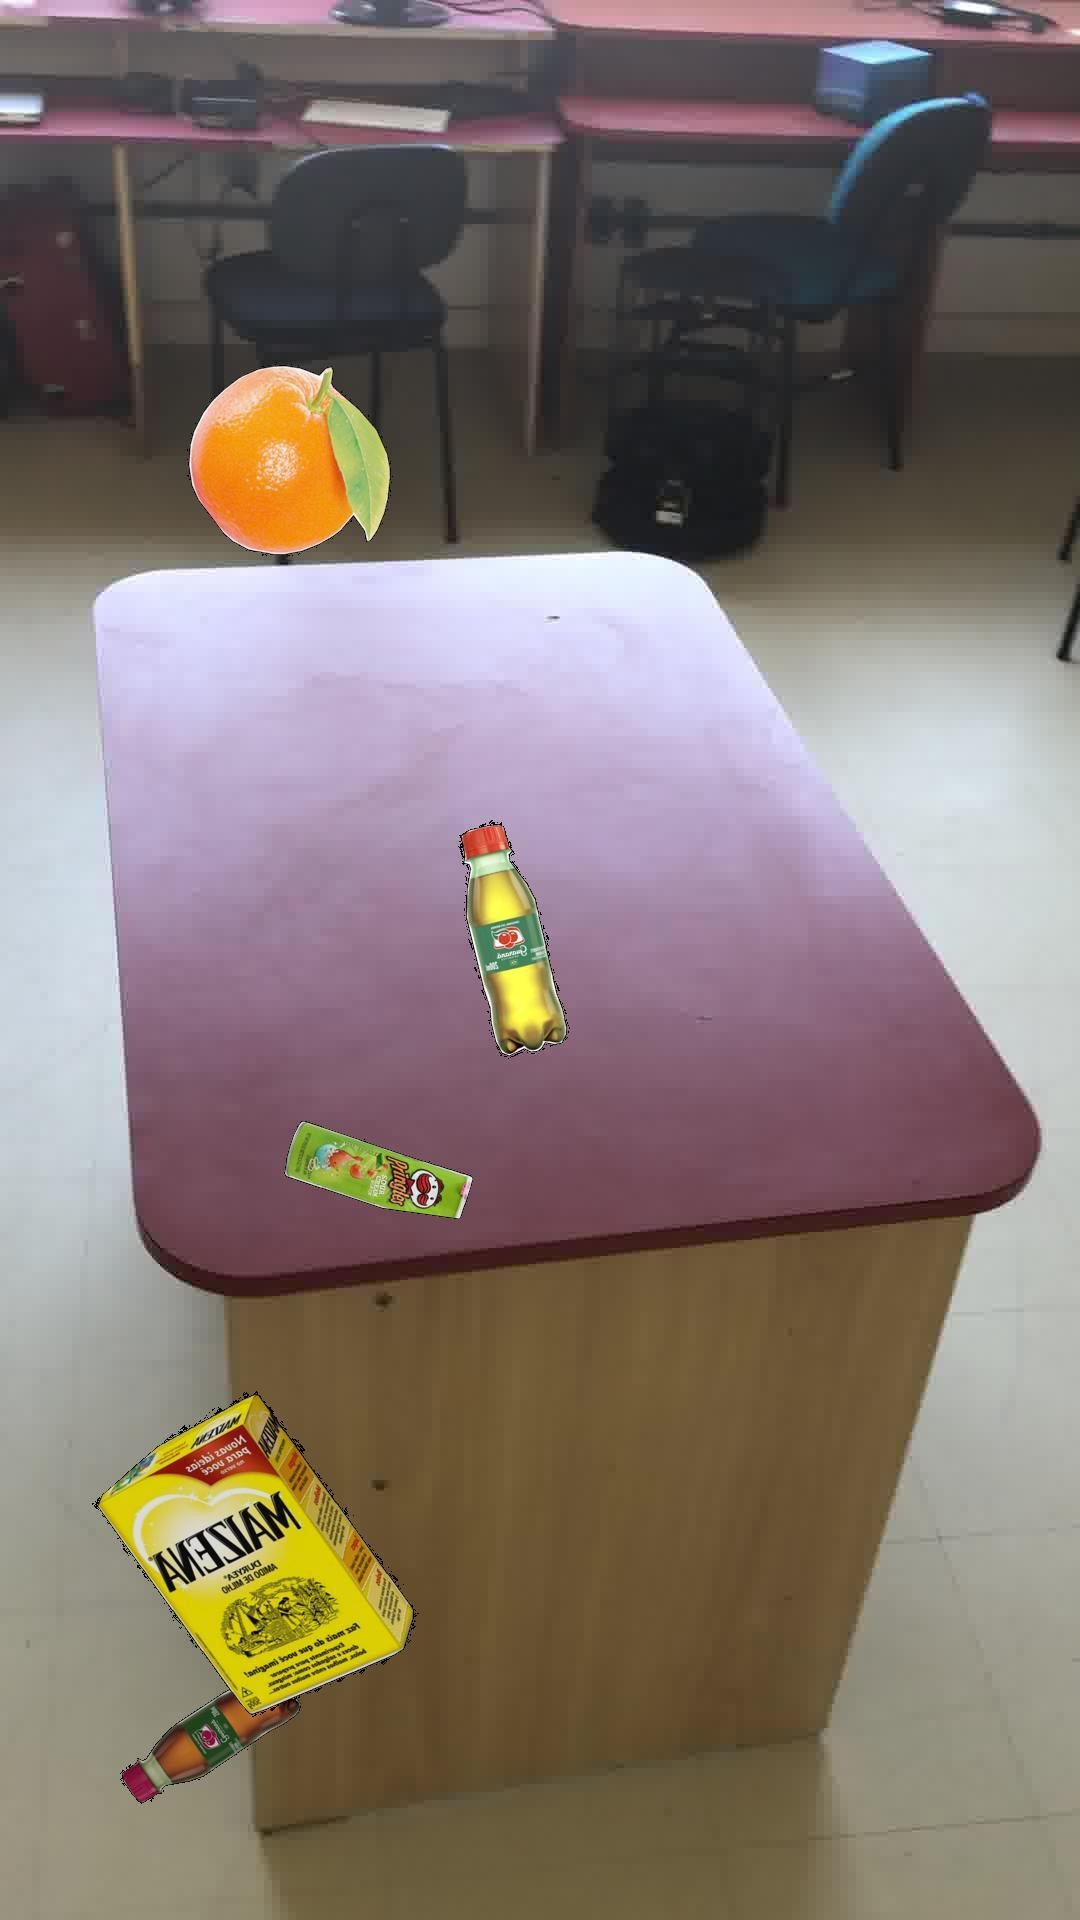guarana: (458, 820, 566, 1055), (120, 1688, 299, 1803)
orange: (186, 364, 389, 554)
pringles: (282, 1120, 472, 1217)
